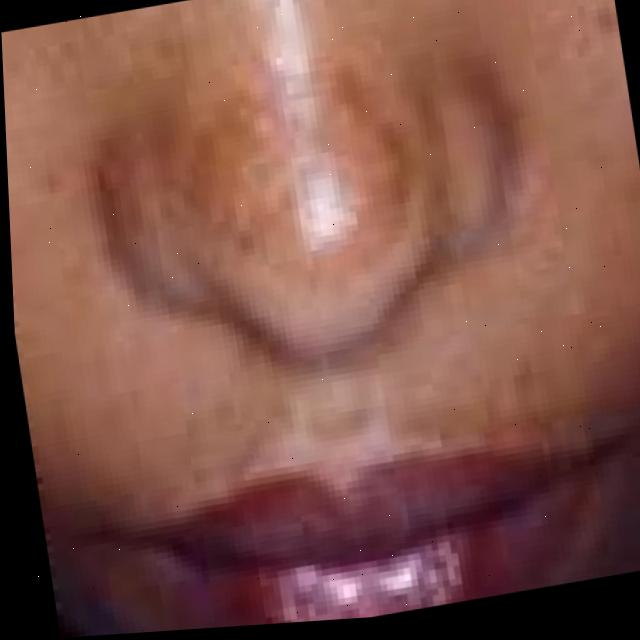Melasma: (161, 49, 423, 279)
